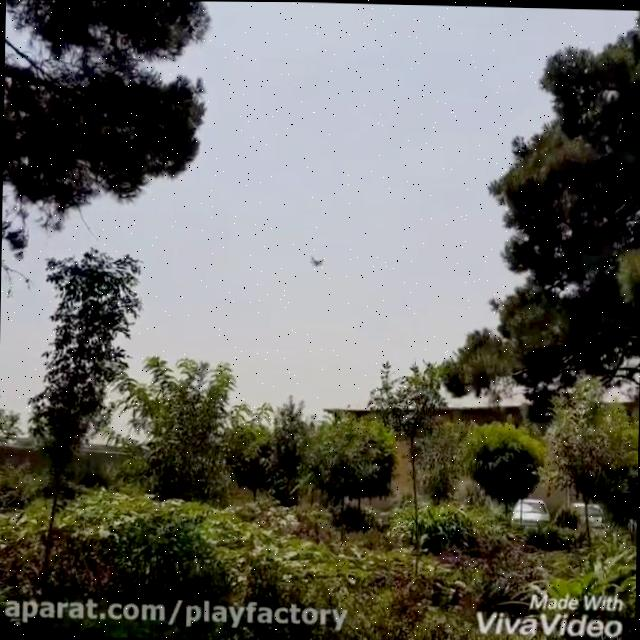drone: (302, 244, 330, 270)
